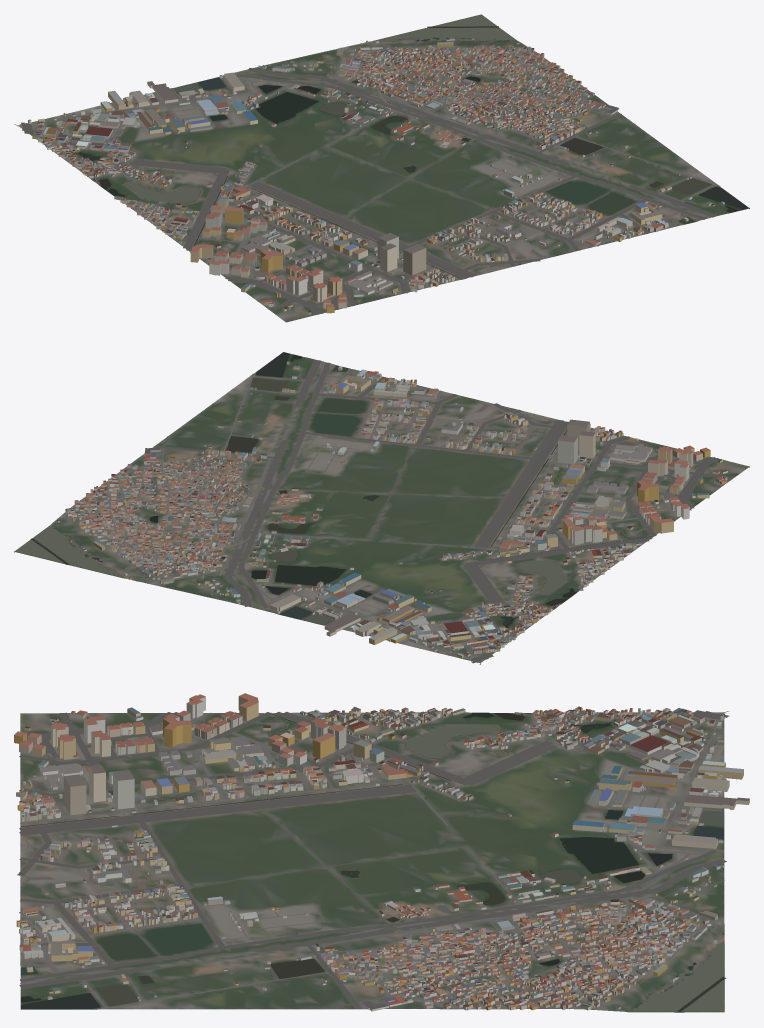
3 views of the same model, one above another, from view 1: azimuth 30°, elevation 25°; view 2: azimuth 150°, elevation 25°; view 3: azimuth 270°, elevation 25° (orthographic). The views are drawn at different scales.
Visible parts, largest first — view 1: ground, buildings, roads, water; view 2: ground, buildings, roads, water; view 3: ground, buildings, roads, water.
Part boxes in pixels (bbox=[...]): ground: bbox=[17, 14, 749, 322]; buildings: bbox=[28, 37, 724, 314]; roads: bbox=[14, 46, 719, 314]; water: bbox=[75, 14, 748, 279]; ground: bbox=[14, 352, 749, 662]; buildings: bbox=[57, 361, 727, 660]; roads: bbox=[64, 360, 733, 664]; water: bbox=[15, 352, 652, 628]; ground: bbox=[20, 712, 724, 1012]; buildings: bbox=[14, 693, 749, 1011]; roads: bbox=[17, 710, 729, 1009]; water: bbox=[20, 712, 725, 1012].
Bounding box in the file's own units: 1440 × 70.48 × 1465.
